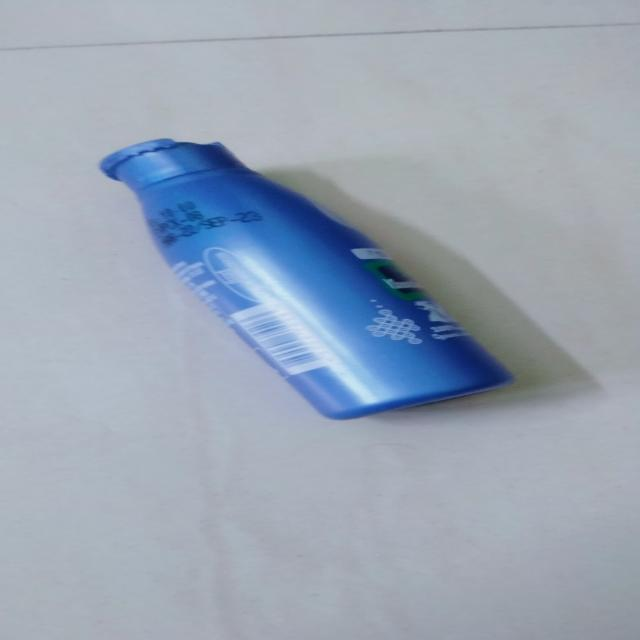oil: (100, 136, 507, 418)
